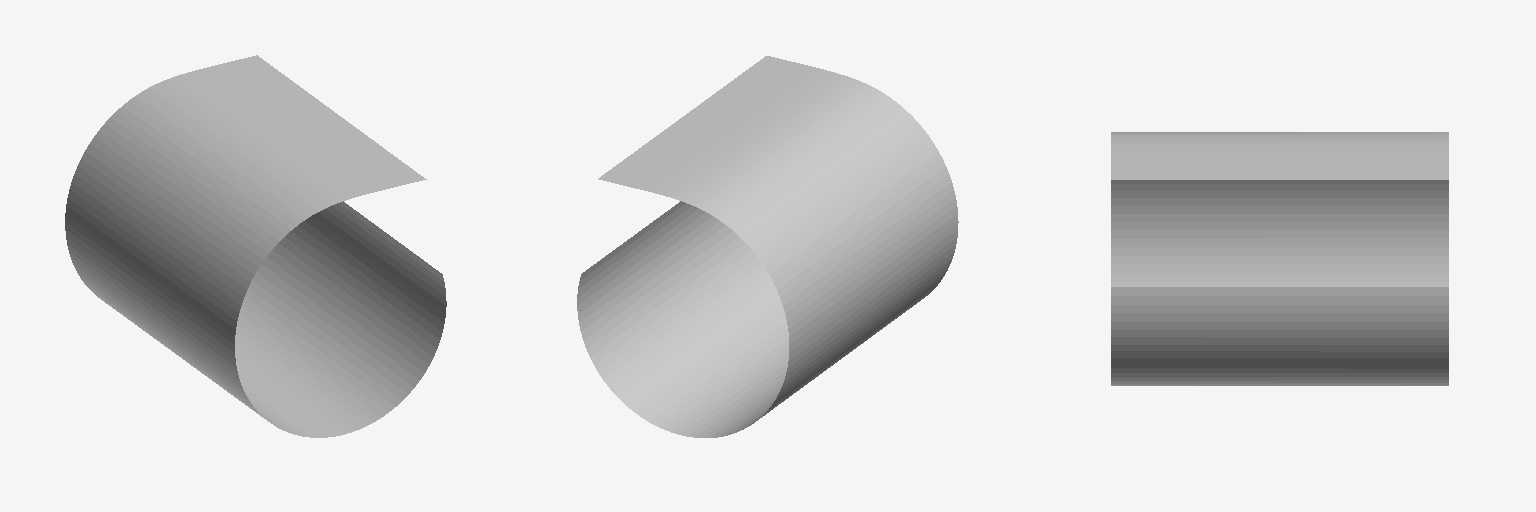
File: CurvePaper_000017.obj
3 views of the same model, side by side, from view 1: azimuth 30°, elevation 25°; view 2: azimuth 150°, elevation 25°; view 3: azimuth 270°, elevation 25° (orthographic).
Visible parts, largest first — view 1: Plane; view 2: Plane; view 3: Plane.
Part boxes in pixels (x1,y1,x2,y2): Plane: (65,55,446,437); Plane: (577,56,958,437); Plane: (1111,132,1448,385).
Size of the model in its own units: 1.64 by 1.74 by 2.26.